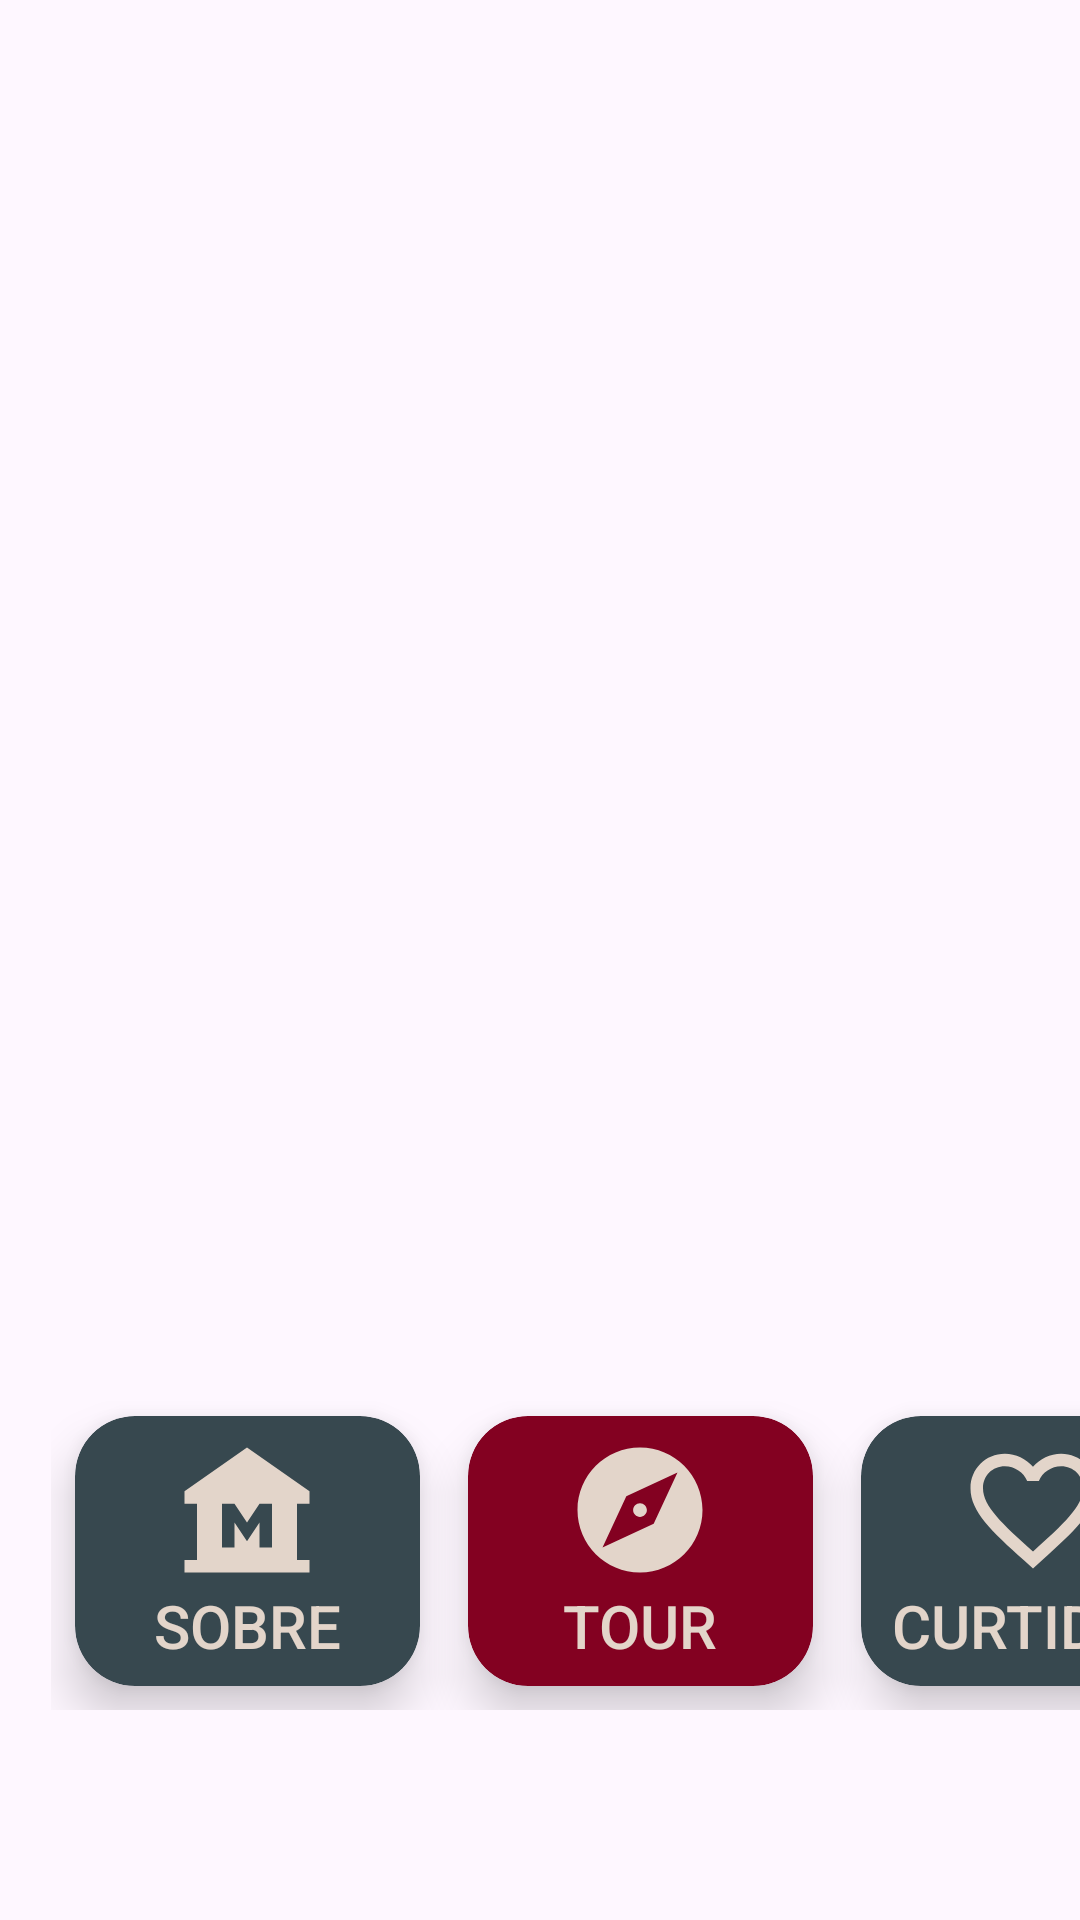

Icons on this 1080×1920 Android screen, each with the point to tap as (x,y):
explore: (640,1510)
museum: (247,1510)
